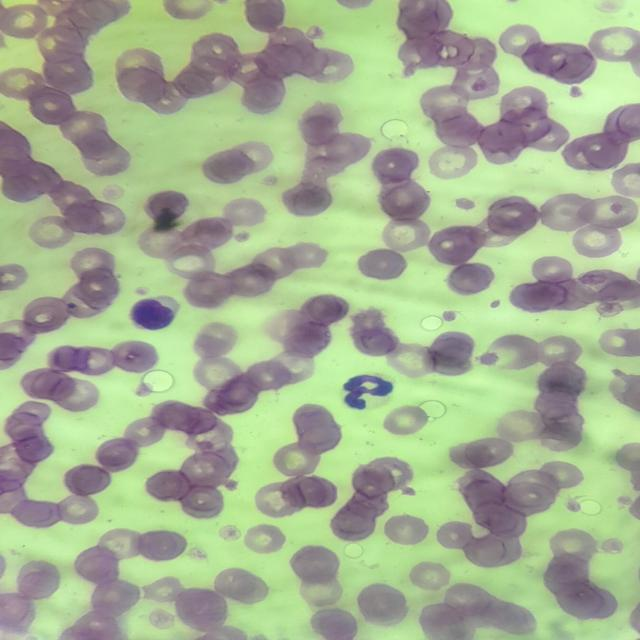Neutrofilo: (337, 373, 400, 410)
